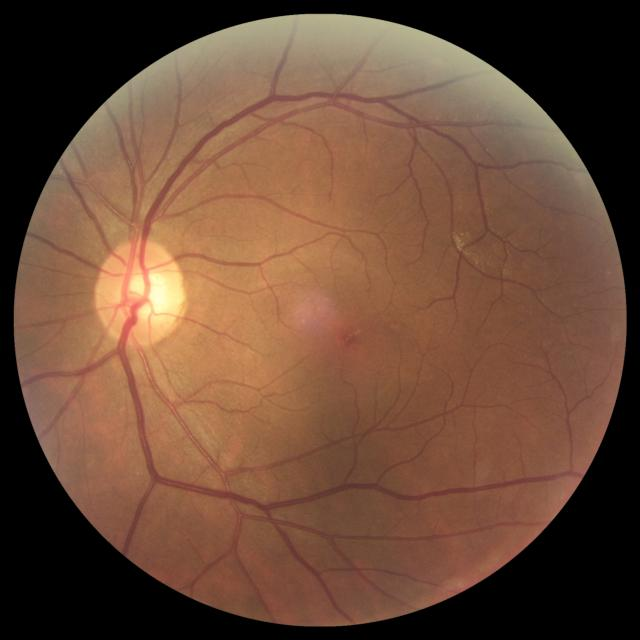OC: (126, 271, 169, 318)
OD: (94, 238, 186, 346)
